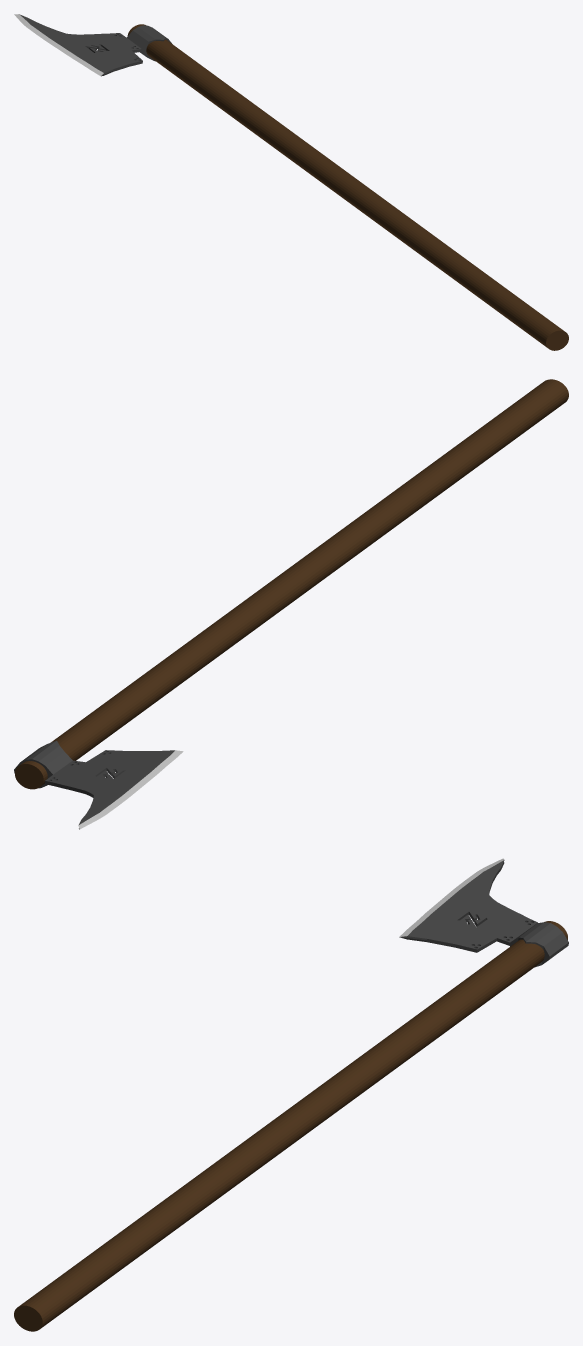
File: pl_topor.fbx
The picture shows the model from 3 angles, top to bottom: view 1: azimuth 30°, elevation 25°; view 2: azimuth 150°, elevation 25°; view 3: azimuth 330°, elevation 25°; orthographic projection. The views are drawn at different scales.
Visible parts, largest first — view 1: Walec; view 2: Walec; view 3: Walec.
Part boxes in pixels (<box>): Walec: <box>14,14,568,350</box>; Walec: <box>14,379,568,829</box>; Walec: <box>14,858,568,1331</box>.
Bounding box in the file's own units: 328 × 70.29 × 2554.
